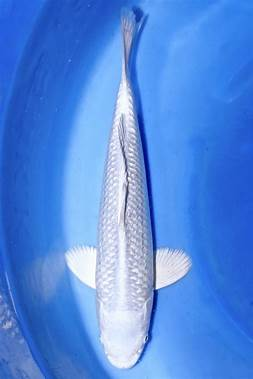white: (64, 7, 191, 368)
